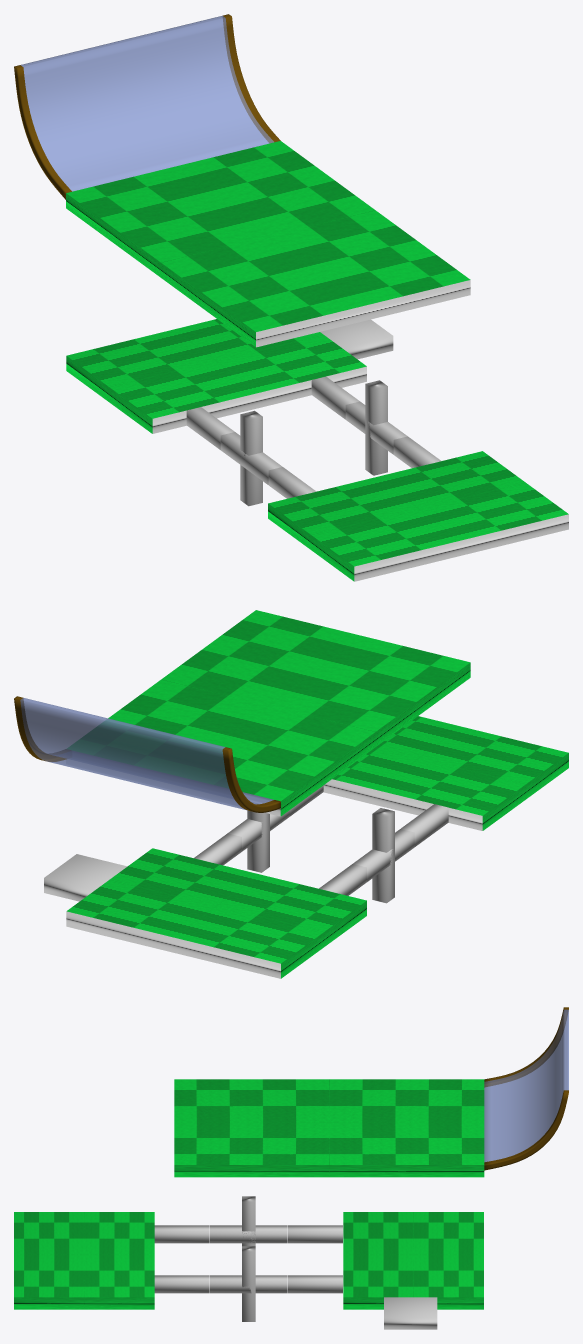
File: level2-panel001.fbx
3 views of the same model, one above another, from view 1: azimuth 30°, elevation 25°; view 2: azimuth 150°, elevation 25°; view 3: azimuth 270°, elevation 25° (orthographic). The views are drawn at different scales.
Visible parts, largest first — view 1: Cube_011, Circle, Cube, Cube_004, Cube_010, Cube_003, Cube_007, Cube_008, Cube_002, Cube_005, Cube_006, Cube_001 (+1 smaller); view 2: Cube_011, Cube_004, Cube, Circle, Cube_010, Cube_007, Cube_008, Cube_003, Cube_009, Cube_005, Cube_006, Cube_002; view 3: Cube_011, Cube, Cube_004, Circle, Cube_010, Cube_008, Cube_002, Cube_009, Cube_001, Cube_006, Cube_005, Cube_003 (+1 smaller).
Part boxes in pixels (bbox=[...]): Cube_011: bbox=[66, 141, 470, 347]; Circle: bbox=[14, 14, 280, 199]; Cube: bbox=[268, 451, 568, 581]; Cube_004: bbox=[66, 319, 366, 433]; Cube_010: bbox=[320, 319, 393, 359]; Cube_003: bbox=[365, 380, 387, 475]; Cube_007: bbox=[240, 410, 262, 506]; Cube_008: bbox=[220, 432, 282, 484]; Cube_002: bbox=[345, 401, 407, 454]; Cube_005: bbox=[311, 376, 359, 419]; Cube_006: bbox=[186, 407, 234, 449]; Cube_001: bbox=[393, 436, 441, 468]; Cube_011: bbox=[66, 610, 470, 816]; Cube_004: bbox=[66, 848, 366, 978]; Cube: bbox=[323, 716, 568, 830]; Circle: bbox=[14, 696, 280, 812]; Cube_010: bbox=[44, 854, 127, 901]; Cube_007: bbox=[372, 808, 394, 903]; Cube_008: bbox=[353, 829, 414, 881]; Cube_003: bbox=[247, 810, 269, 872]; Cube_009: bbox=[401, 804, 448, 846]; Cube_005: bbox=[194, 833, 241, 865]; Cube_006: bbox=[319, 864, 366, 895]; Cube_002: bbox=[227, 810, 289, 851]; Cube_011: bbox=[174, 1079, 484, 1177]; Cube: bbox=[14, 1212, 154, 1309]; Cube_004: bbox=[343, 1212, 483, 1309]; Circle: bbox=[484, 1007, 568, 1170]; Cube_010: bbox=[384, 1297, 437, 1329]; Cube_008: bbox=[210, 1225, 287, 1243]; Cube_002: bbox=[210, 1275, 287, 1293]; Cube_009: bbox=[154, 1225, 209, 1243]; Cube_001: bbox=[154, 1275, 209, 1293]; Cube_006: bbox=[288, 1225, 342, 1243]; Cube_005: bbox=[288, 1275, 342, 1293]; Cube_003: bbox=[242, 1246, 255, 1321].
Bounding box in the file's own units: 9.08 × 9.85 × 20.15.
